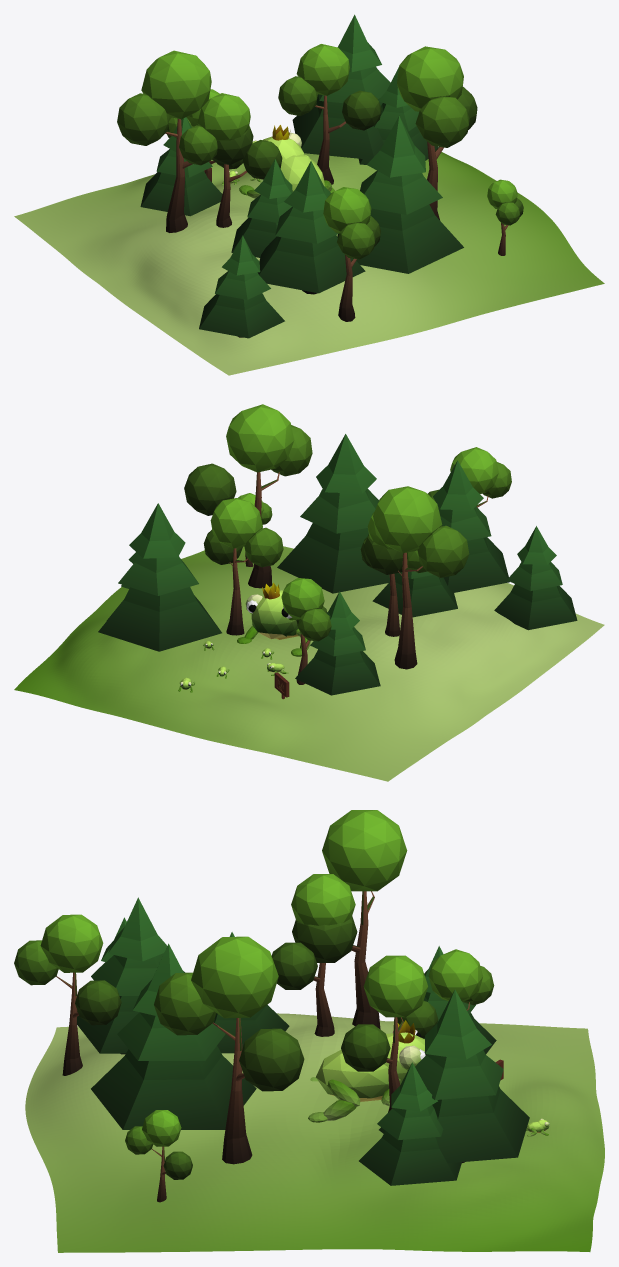
The model's file is lowpolytree.glb.
3 views of the same model, one above another, from view 1: azimuth 30°, elevation 25°; view 2: azimuth 150°, elevation 25°; view 3: azimuth 270°, elevation 25° (orthographic). The views are drawn at different scales.
Parts seen in each view (by area): view 1: Plane, fir tree.004, TREE.003, fir tree.006, TREE.004, fir tree.007, TREE, TREE.002, fir tree.005, TREE.005, fir tree.001, fir tree.003 (+4 smaller); view 2: Plane, fir tree.007, fir tree.004, TREE.003, TREE.004, fir tree.006, TREE, fir tree.005, fir tree.001, TREE.001, fir tree.003, FROG (+2 smaller); view 3: Plane, TREE.004, fir tree.004, fir tree.007, TREE.003, TREE.005, fir tree.002, TREE, TREE.002, fir tree.006, FROG, TREE.001 (+3 smaller).
Part boxes in pixels (x1,y1,x2,y2): Plane: [14, 152, 604, 375]; fir tree.004: [337, 116, 463, 273]; TREE.003: [117, 50, 253, 232]; fir tree.006: [257, 161, 365, 294]; TREE.004: [397, 46, 477, 219]; fir tree.007: [292, 14, 390, 159]; TREE: [278, 44, 381, 184]; TREE.002: [179, 93, 282, 227]; fir tree.005: [199, 235, 284, 338]; TREE.005: [323, 187, 380, 321]; fir tree.001: [140, 117, 222, 216]; fir tree.003: [231, 159, 292, 257]; Plane: [14, 546, 604, 781]; fir tree.007: [98, 503, 221, 651]; fir tree.004: [277, 434, 389, 593]; TREE.003: [364, 486, 469, 669]; TREE.004: [184, 404, 312, 588]; fir tree.006: [433, 460, 509, 592]; TREE: [203, 498, 283, 635]; fir tree.005: [494, 526, 577, 630]; fir tree.001: [295, 591, 380, 695]; TREE.001: [281, 578, 331, 684]; fir tree.003: [372, 567, 457, 617]; FROG: [237, 590, 310, 656]; Plane: [25, 1013, 604, 1252]; TREE.004: [154, 936, 304, 1164]; fir tree.004: [91, 943, 256, 1129]; fir tree.007: [379, 989, 529, 1163]; TREE.003: [292, 810, 407, 1029]; TREE.005: [14, 914, 121, 1075]; fir tree.002: [359, 1062, 461, 1185]; TREE: [341, 955, 428, 1112]; TREE.002: [271, 874, 355, 1036]; fir tree.006: [77, 897, 185, 1054]; FROG: [308, 1030, 426, 1122]; TREE.001: [397, 949, 494, 1038].
Bounding box in the file's own units: 23.99 × 12.11 × 24.93.
Materials: 19 (19 with a texture image).
